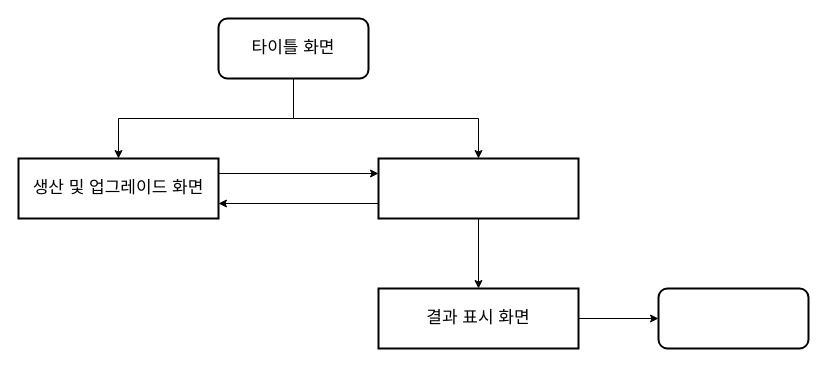
This 826x374 diagram has some shape labels left out. Each missing label, with the box of its shape:
게임 종료: (657, 287, 809, 349)
메인 전투 화면: (377, 157, 579, 219)
